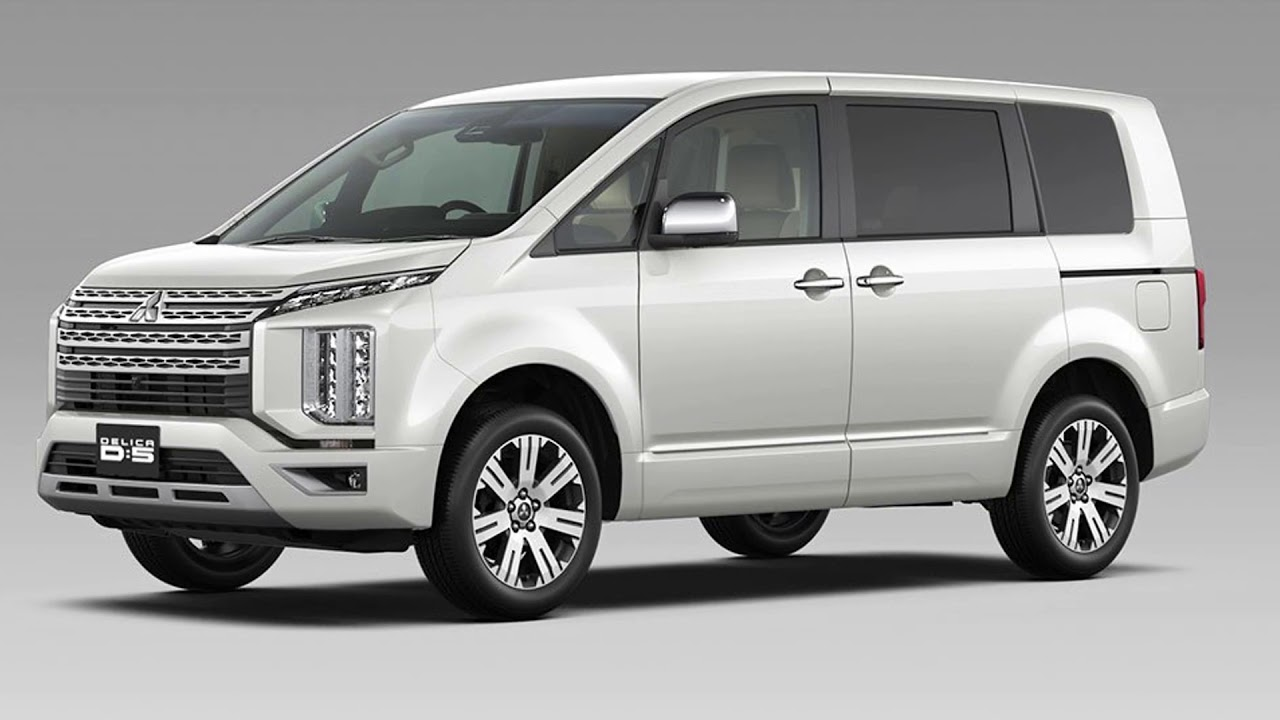van: (35, 66, 1217, 621)
